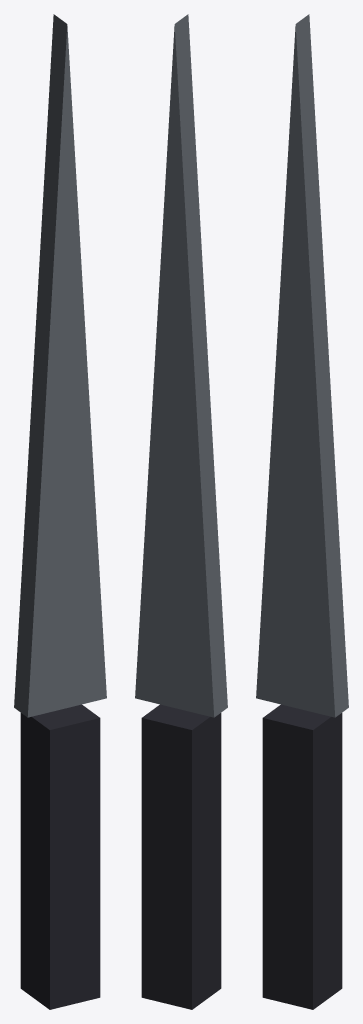
Rendered from SM_Prop_SableDagger_LQ.glb.
3 renders of one model, left to right at view 1: azimuth 30°, elevation 25°; view 2: azimuth 150°, elevation 25°; view 3: azimuth 330°, elevation 25°, orthographic.
Parts seen in each view (by area): view 1: SM_Prop_SableDagger_LQ; view 2: SM_Prop_SableDagger_LQ; view 3: SM_Prop_SableDagger_LQ.
Boxes of the visible parts, x1,y1,x2,y2 form: SM_Prop_SableDagger_LQ: [14, 14, 106, 1009]; SM_Prop_SableDagger_LQ: [135, 14, 227, 1009]; SM_Prop_SableDagger_LQ: [256, 14, 348, 1009].
Size of the model in its own units: 0.04 by 0.47 by 0.0255.
1 material, 1 textured.
